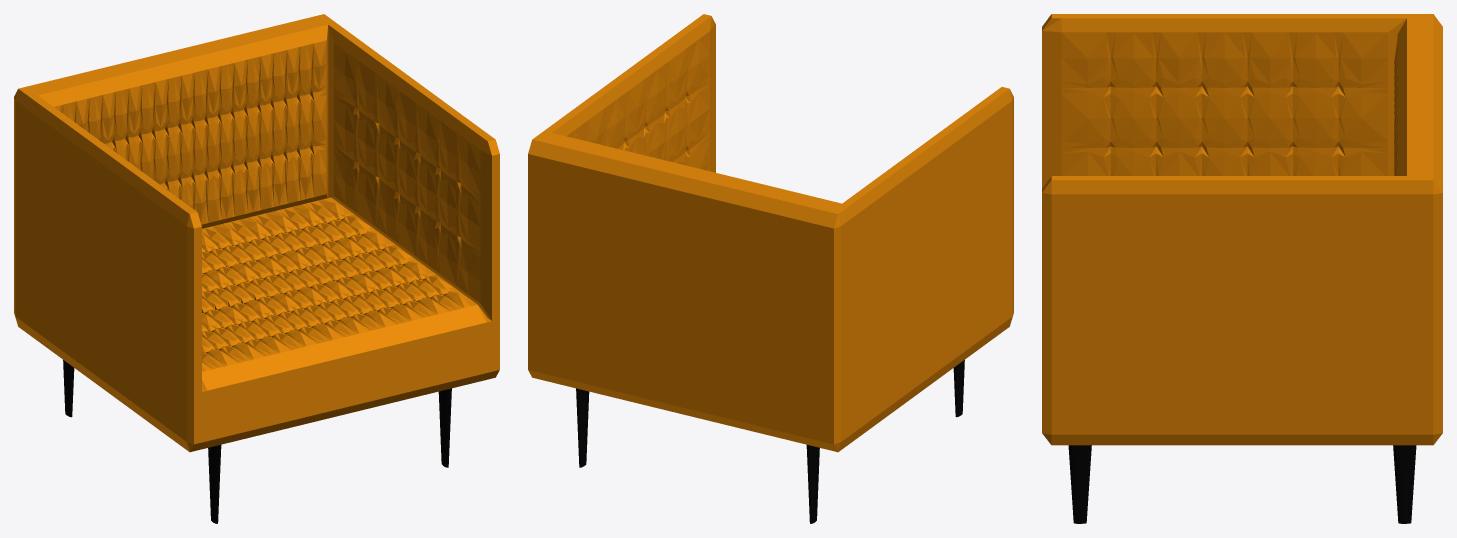
The model's file is sh-kl-mid-century-bench-sofa.glb.
3 views of the same model, side by side, from view 1: azimuth 30°, elevation 25°; view 2: azimuth 150°, elevation 25°; view 3: azimuth 270°, elevation 25° (orthographic). The views are drawn at different scales.
Visible parts, largest first — view 1: sofa, sofa_legs; view 2: sofa, sofa_legs; view 3: sofa, sofa_legs.
Boxes of the visible parts, left/top/right/bottom form: sofa: left=14, top=14, right=499, bottom=452; sofa_legs: left=63, top=360, right=451, bottom=523; sofa: left=528, top=14, right=1013, bottom=452; sofa_legs: left=576, top=360, right=964, bottom=523; sofa: left=1042, top=14, right=1442, bottom=445; sofa_legs: left=1068, top=445, right=1416, bottom=523.
Size of the model in its own units: 1 by 1 by 1.
